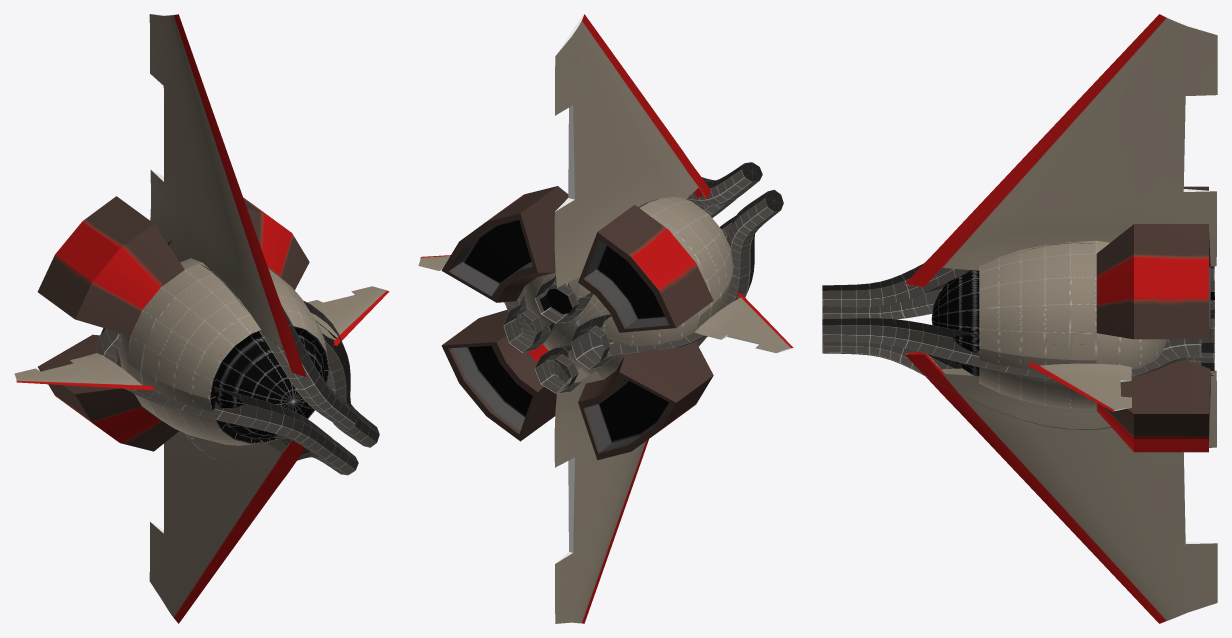
File: heavy_ship_red_swap.fbx
3 renders of one model, left to right at view 1: azimuth 30°, elevation 25°; view 2: azimuth 150°, elevation 25°; view 3: azimuth 270°, elevation 25°, orthographic.
Visible parts, largest first — view 1: heavy_ship; view 2: heavy_ship; view 3: heavy_ship.
Boxes of the visible parts, bbox=[...] form: heavy_ship: bbox=[14, 14, 389, 623]; heavy_ship: bbox=[418, 14, 793, 623]; heavy_ship: bbox=[822, 14, 1217, 623].
Bounding box in the file's own units: 11.88 × 18.56 × 10.91.
2 materials, 1 textured.
